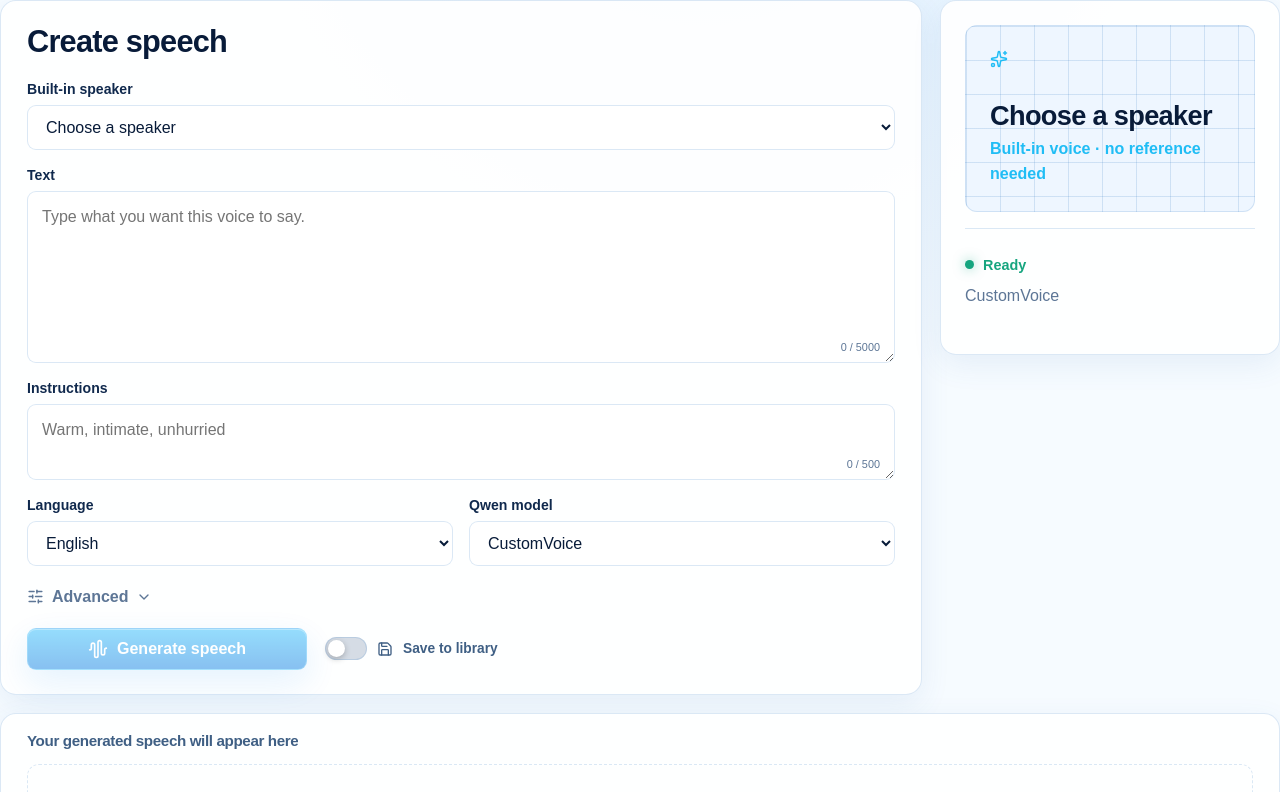
Test: speech model selection › opens with the loaded model despite an old selection, then allows a manual switch
The image size is (1280, 792).
Check: the dropdown labelled "Built-in speaker" is shown, box [27,105,895,150]
Select "Base" in the dropdown labelled "Qwen model". click: (682, 543)
box: [469,521,895,566]
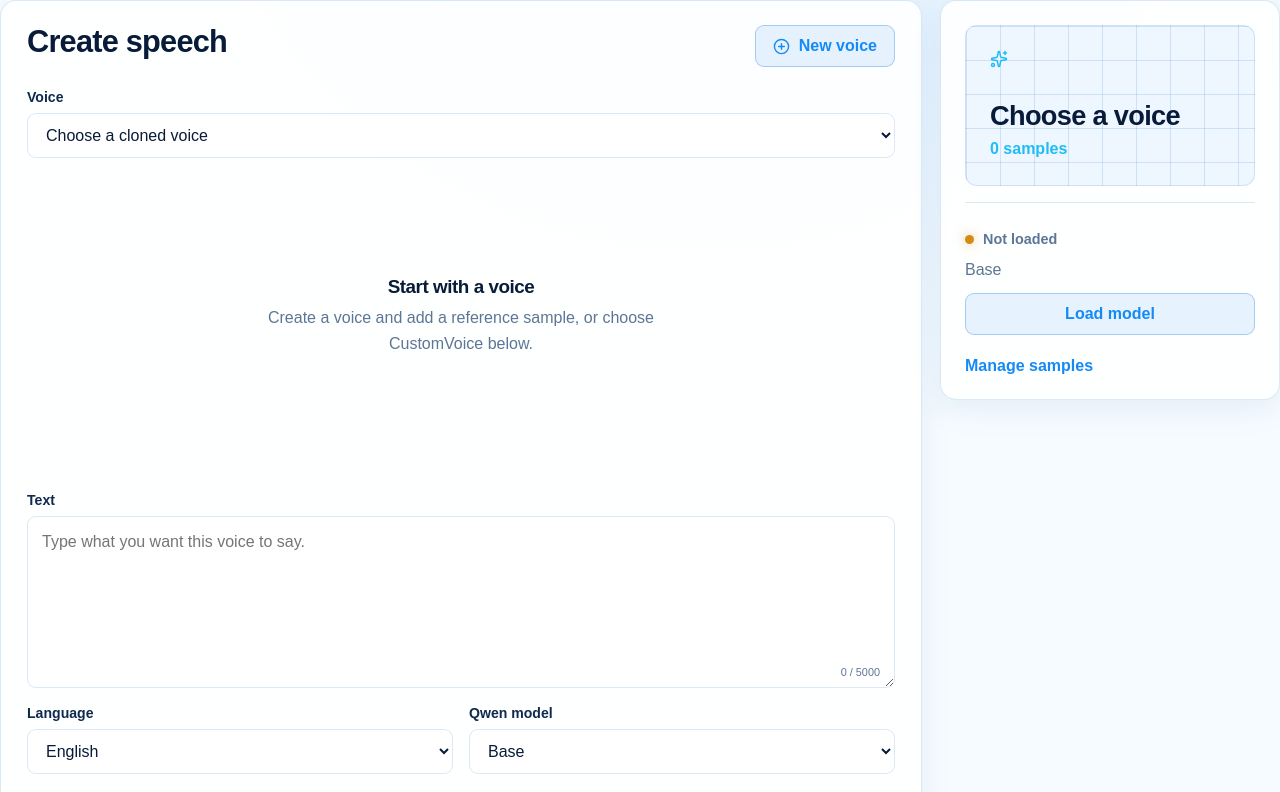
Check: the text labelled "Built-in speaker" is gone
